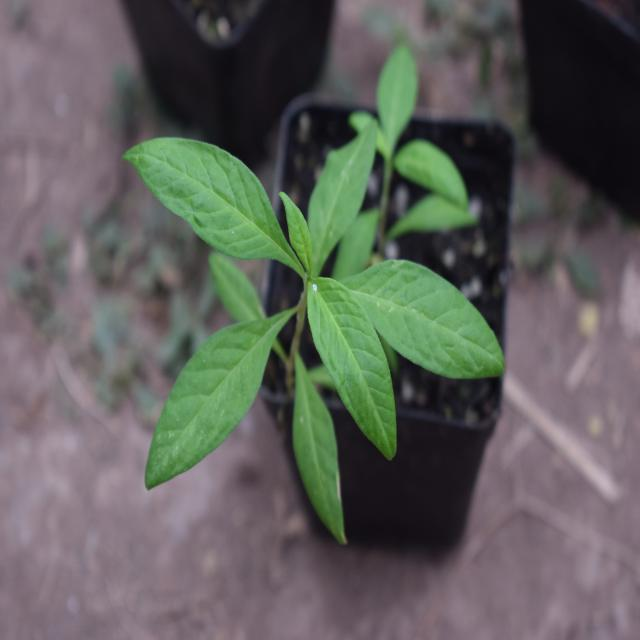white_smart_weed: (130, 121, 552, 555)
